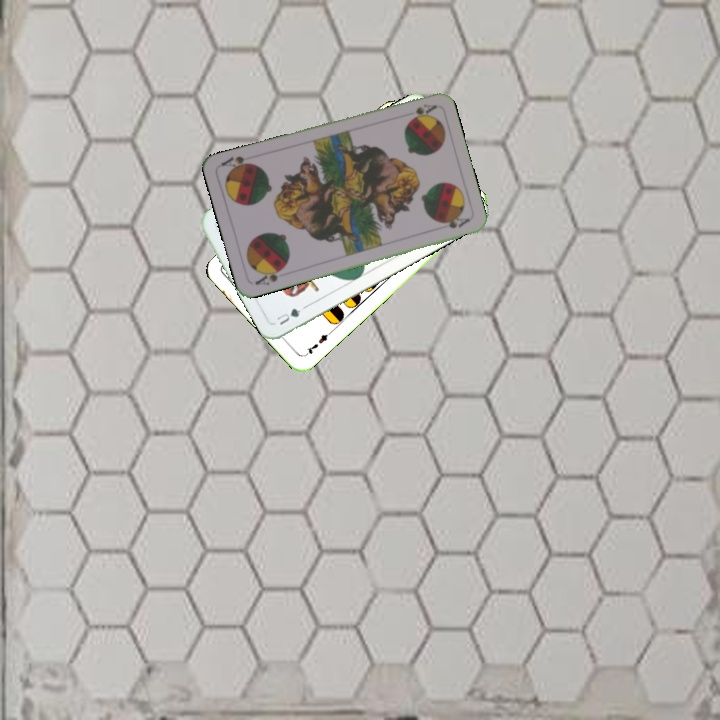E7: (300, 327, 334, 359)
GU: (272, 304, 304, 328)
SA: (251, 263, 288, 288), (407, 100, 439, 122)
